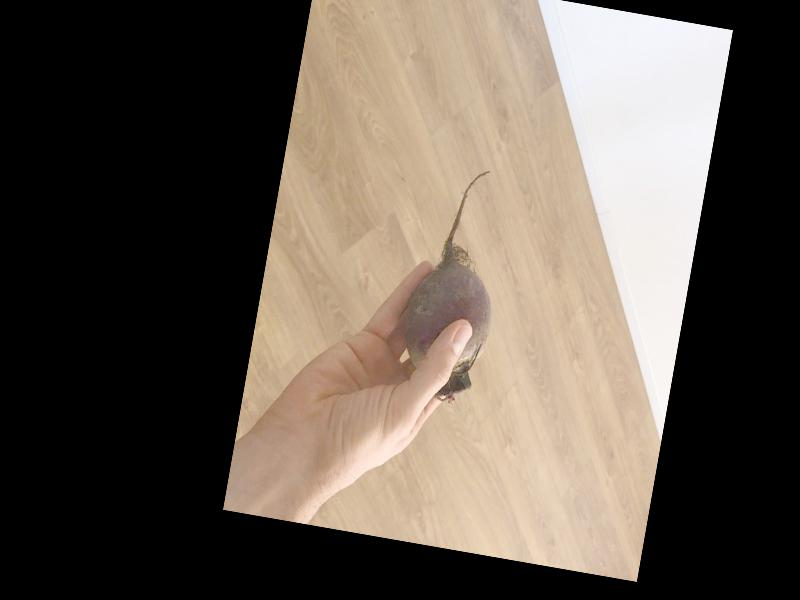Beet: (392, 160, 515, 406)
